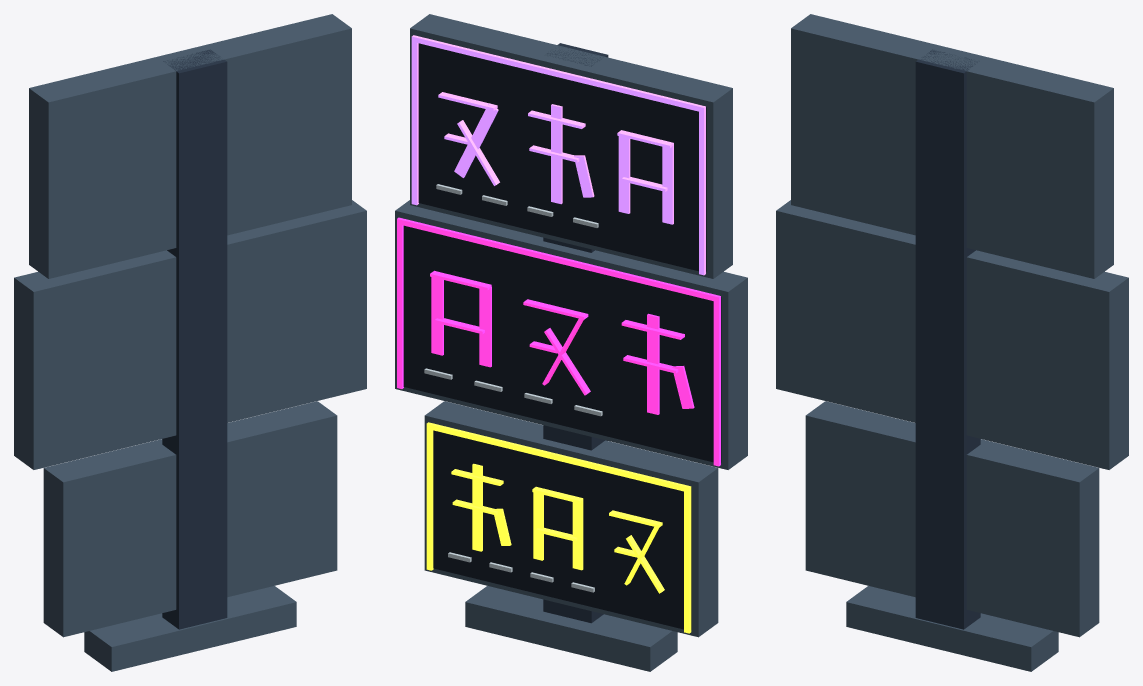
File: prop-billboard-a-224e53c3.glb
The picture shows the model from 3 angles, left to right: view 1: azimuth 30°, elevation 25°; view 2: azimuth 150°, elevation 25°; view 3: azimuth 330°, elevation 25°; orthographic projection.
Parts seen in each view (by area): view 1: prop-billboard-a_body; view 2: prop-billboard-a_body; view 3: prop-billboard-a_body.
Boxes of the visible parts, x1,y1,x2,y2 form: prop-billboard-a_body: [14, 14, 366, 671]; prop-billboard-a_body: [395, 14, 747, 671]; prop-billboard-a_body: [776, 14, 1128, 671].
Bounding box in the file's own units: 9 × 15 × 1.4.
